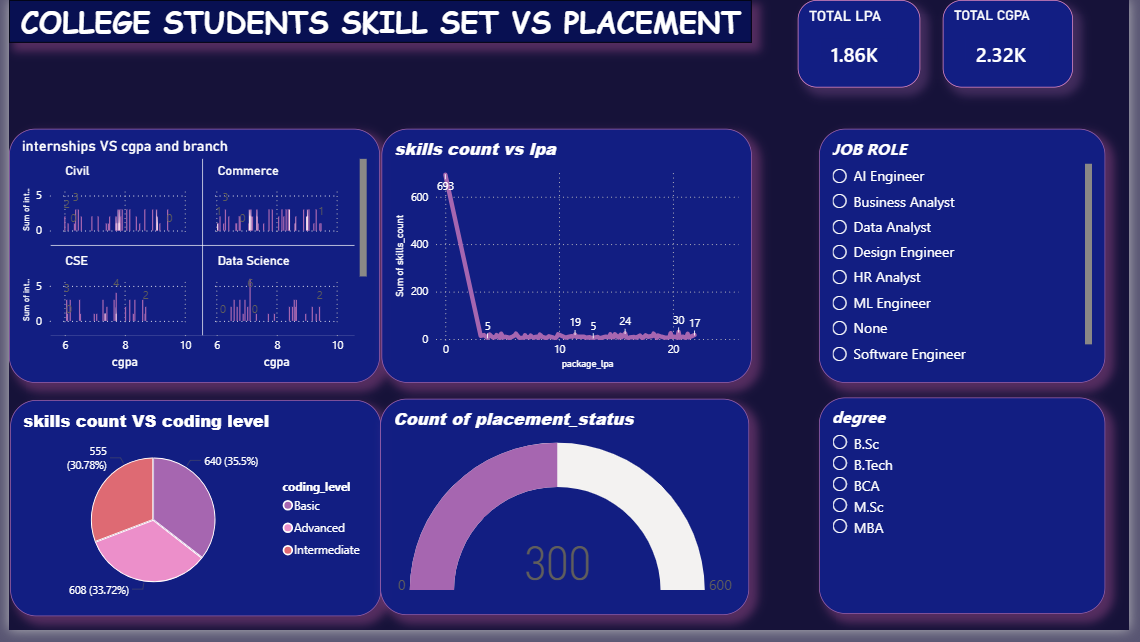

The dashboard page shown, as its layout file describes it:
{"tool":"powerbi","page":{"name":"Page 2","canvas":[1280,720],"ordinal":0},"visuals":[{"type":"textbox","title":"COLLEGE STUDENTS SKILL SET VS PLACEMENT","box":[0,0,848.6,48.6],"z":0},{"type":"columnChart","title":" internships VS cgpa and branch","fields":{"Category":["Sheet1.cgpa"],"Y":["Sum(Sheet1.internships)"],"Rows":["Sheet1.branch"]},"box":[0,78.2,424,359.5],"z":1000},{"type":"pieChart","title":"Internship VS coding level","fields":{"Category":["Sheet1.coding_level"],"Y":["Sum(Sheet1.internships)"]},"box":[1.4,457.1,424.3,247.1],"z":2000},{"type":"lineChart","title":"skills count vs lpa","fields":{"Category":["Sheet1.package_lpa"],"Y":["Sum(Sheet1.skills_count)"]},"box":[425.4,78.2,476.2,359.5],"z":3000},{"type":"gauge","fields":{"Y":["CountNonNull(Sheet1.placement_status)"]},"box":[424,455.6,477.5,247],"z":4000},{"type":"listSlicer","title":"JOB ROLE","fields":{"Values":["Sheet1.job_role"]},"box":[926.2,100.2,326.6,337.6],"z":5000},{"type":"listSlicer","fields":{"Values":["Sheet1.degree"]},"box":[925.7,454.3,327.1,247.1],"z":6000},{"type":"cardVisual","title":"TOTAL LPA","fields":{"Data":["Sum(Sheet1.package_lpa)"]},"box":[901.4,0,140,100],"z":7000},{"type":"cardVisual","title":"TOTAL CGPA","fields":{"Data":["Sum(Sheet1.cgpa)"]},"box":[1067.1,0,148.6,100],"z":8000}]}

Visuals, with their boxes in screenshot pixels (x1, y1, x2, y2), scaled from the page's 1280x720 canvas onto the 1140x642 screenshot:
"COLLEGE STUDENTS SKILL SET VS PLACEMENT" textbox: region(0, 0, 756, 43)
" internships VS cgpa and branch" columnChart: region(0, 70, 378, 390)
"Internship VS coding level" pieChart: region(1, 408, 379, 628)
"skills count vs lpa" lineChart: region(379, 70, 803, 390)
gauge - CountNonNull(Sheet1.placement_status): region(378, 406, 803, 626)
"JOB ROLE" listSlicer: region(825, 89, 1116, 390)
listSlicer - Sheet1.degree: region(824, 405, 1116, 625)
"TOTAL LPA" cardVisual: region(803, 0, 927, 89)
"TOTAL CGPA" cardVisual: region(950, 0, 1083, 89)
